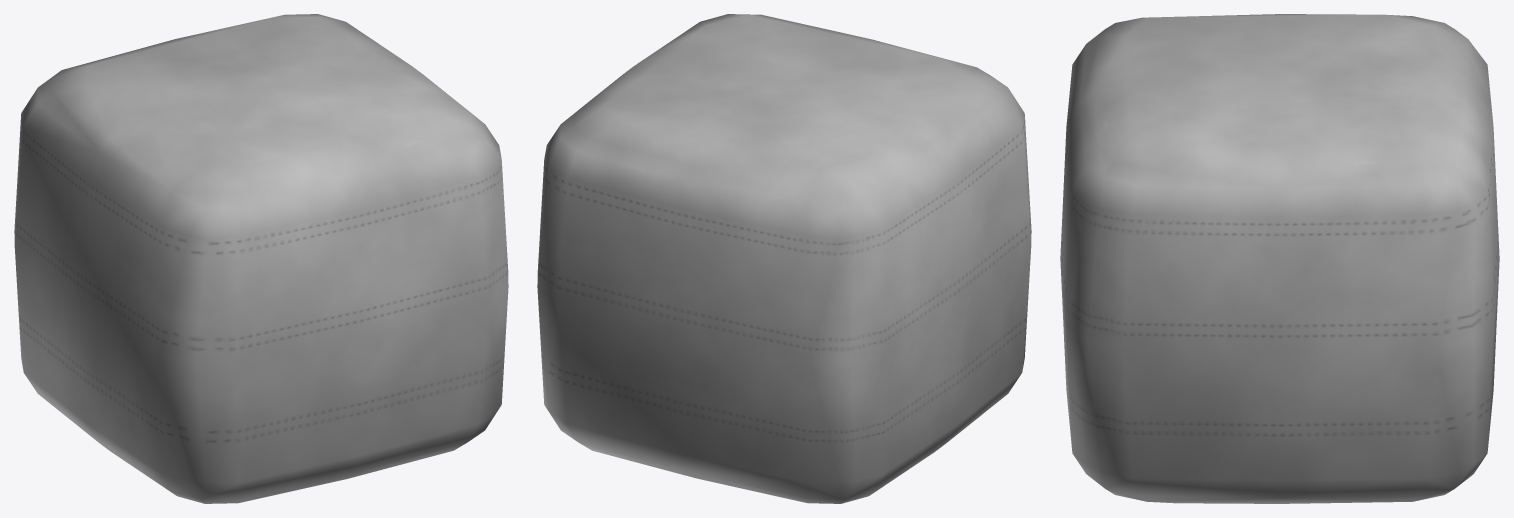
File: LeftLowerArm_C1.fbx
3 renders of one model, left to right at view 1: azimuth 30°, elevation 25°; view 2: azimuth 150°, elevation 25°; view 3: azimuth 270°, elevation 25°, orthographic. The views are drawn at different scales.
Parts seen in each view (by area): view 1: Civ_PilotoLargo_LeftLowerArm_C1; view 2: Civ_PilotoLargo_LeftLowerArm_C1; view 3: Civ_PilotoLargo_LeftLowerArm_C1.
Part boxes in pixels (box(x1,y1,x2,y2)): Civ_PilotoLargo_LeftLowerArm_C1: box(14, 14, 508, 503); Civ_PilotoLargo_LeftLowerArm_C1: box(537, 14, 1031, 503); Civ_PilotoLargo_LeftLowerArm_C1: box(1060, 14, 1499, 503).
Bounding box in the file's own units: 1.29 × 1.19 × 1.29.
